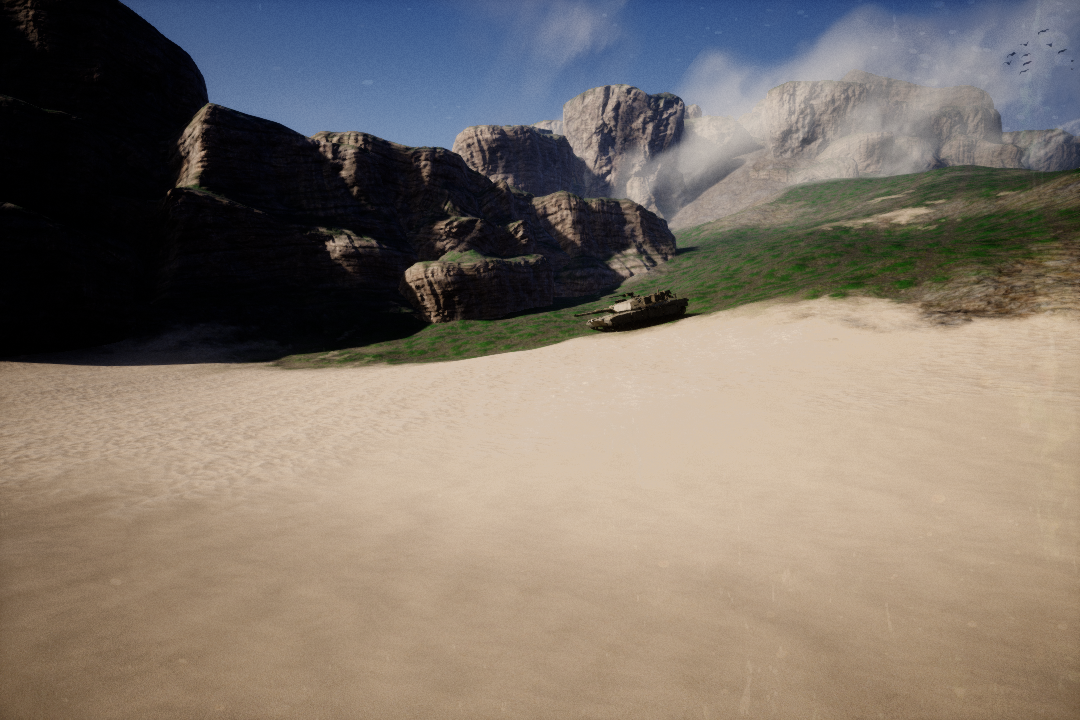tank: (570, 292, 692, 335)
